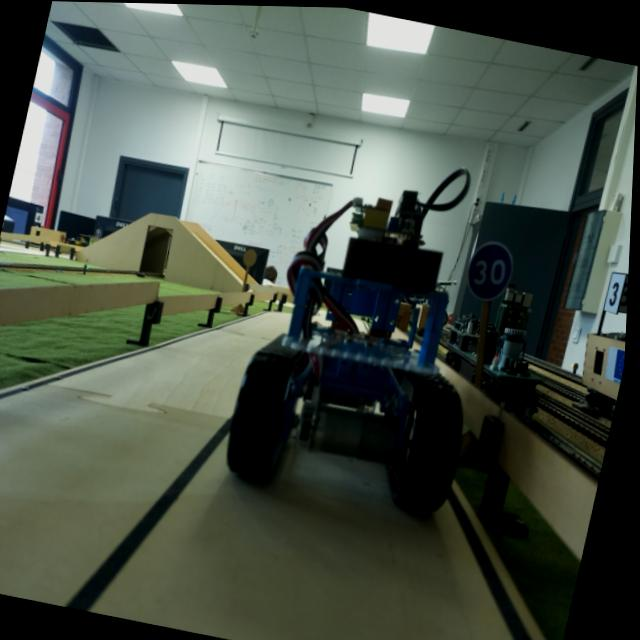obstacle_voiture: (222, 185, 504, 524)
panneau-limitation30: (462, 235, 516, 302)
